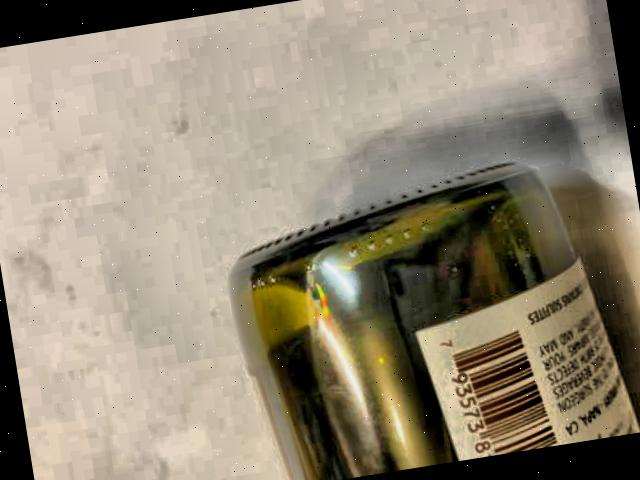Bottles: (167, 117, 639, 480)
